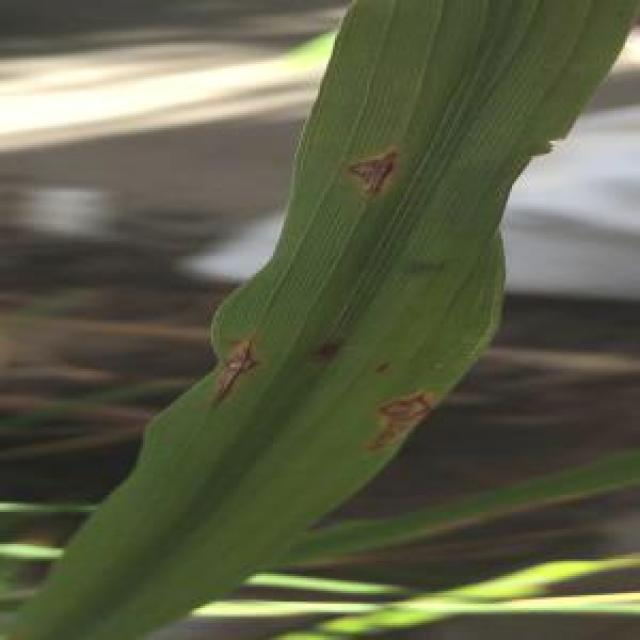Leaf_Blast: (298, 85, 442, 220), (356, 346, 476, 458), (192, 290, 290, 420)
